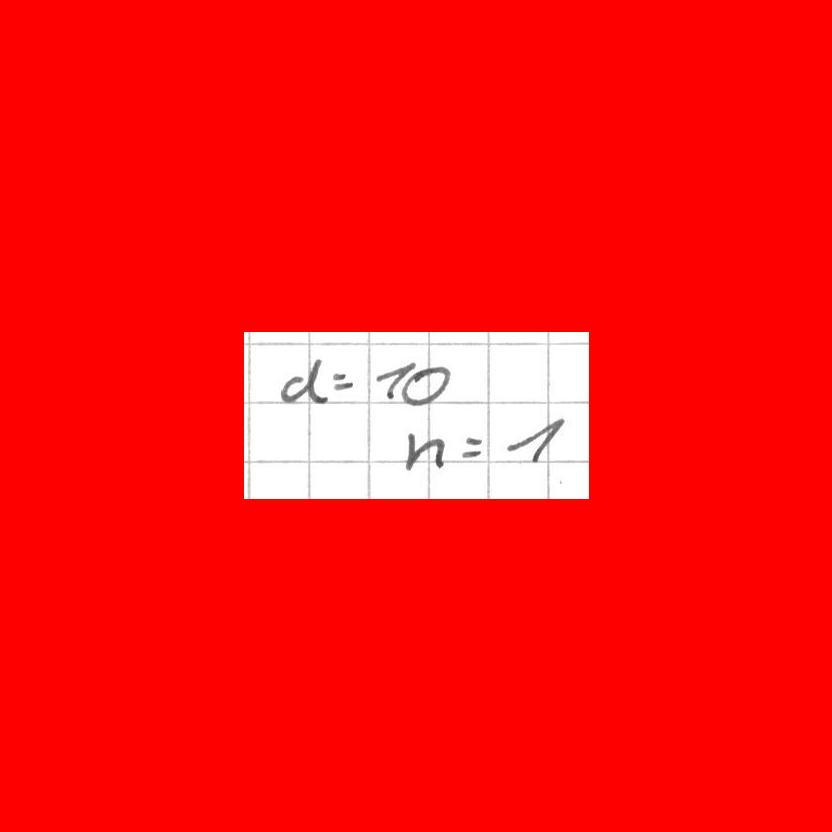Char: (505, 418, 565, 464), (400, 363, 452, 407), (283, 357, 328, 405), (372, 358, 415, 402), (403, 430, 444, 474), (459, 432, 487, 459), (331, 370, 356, 392)
